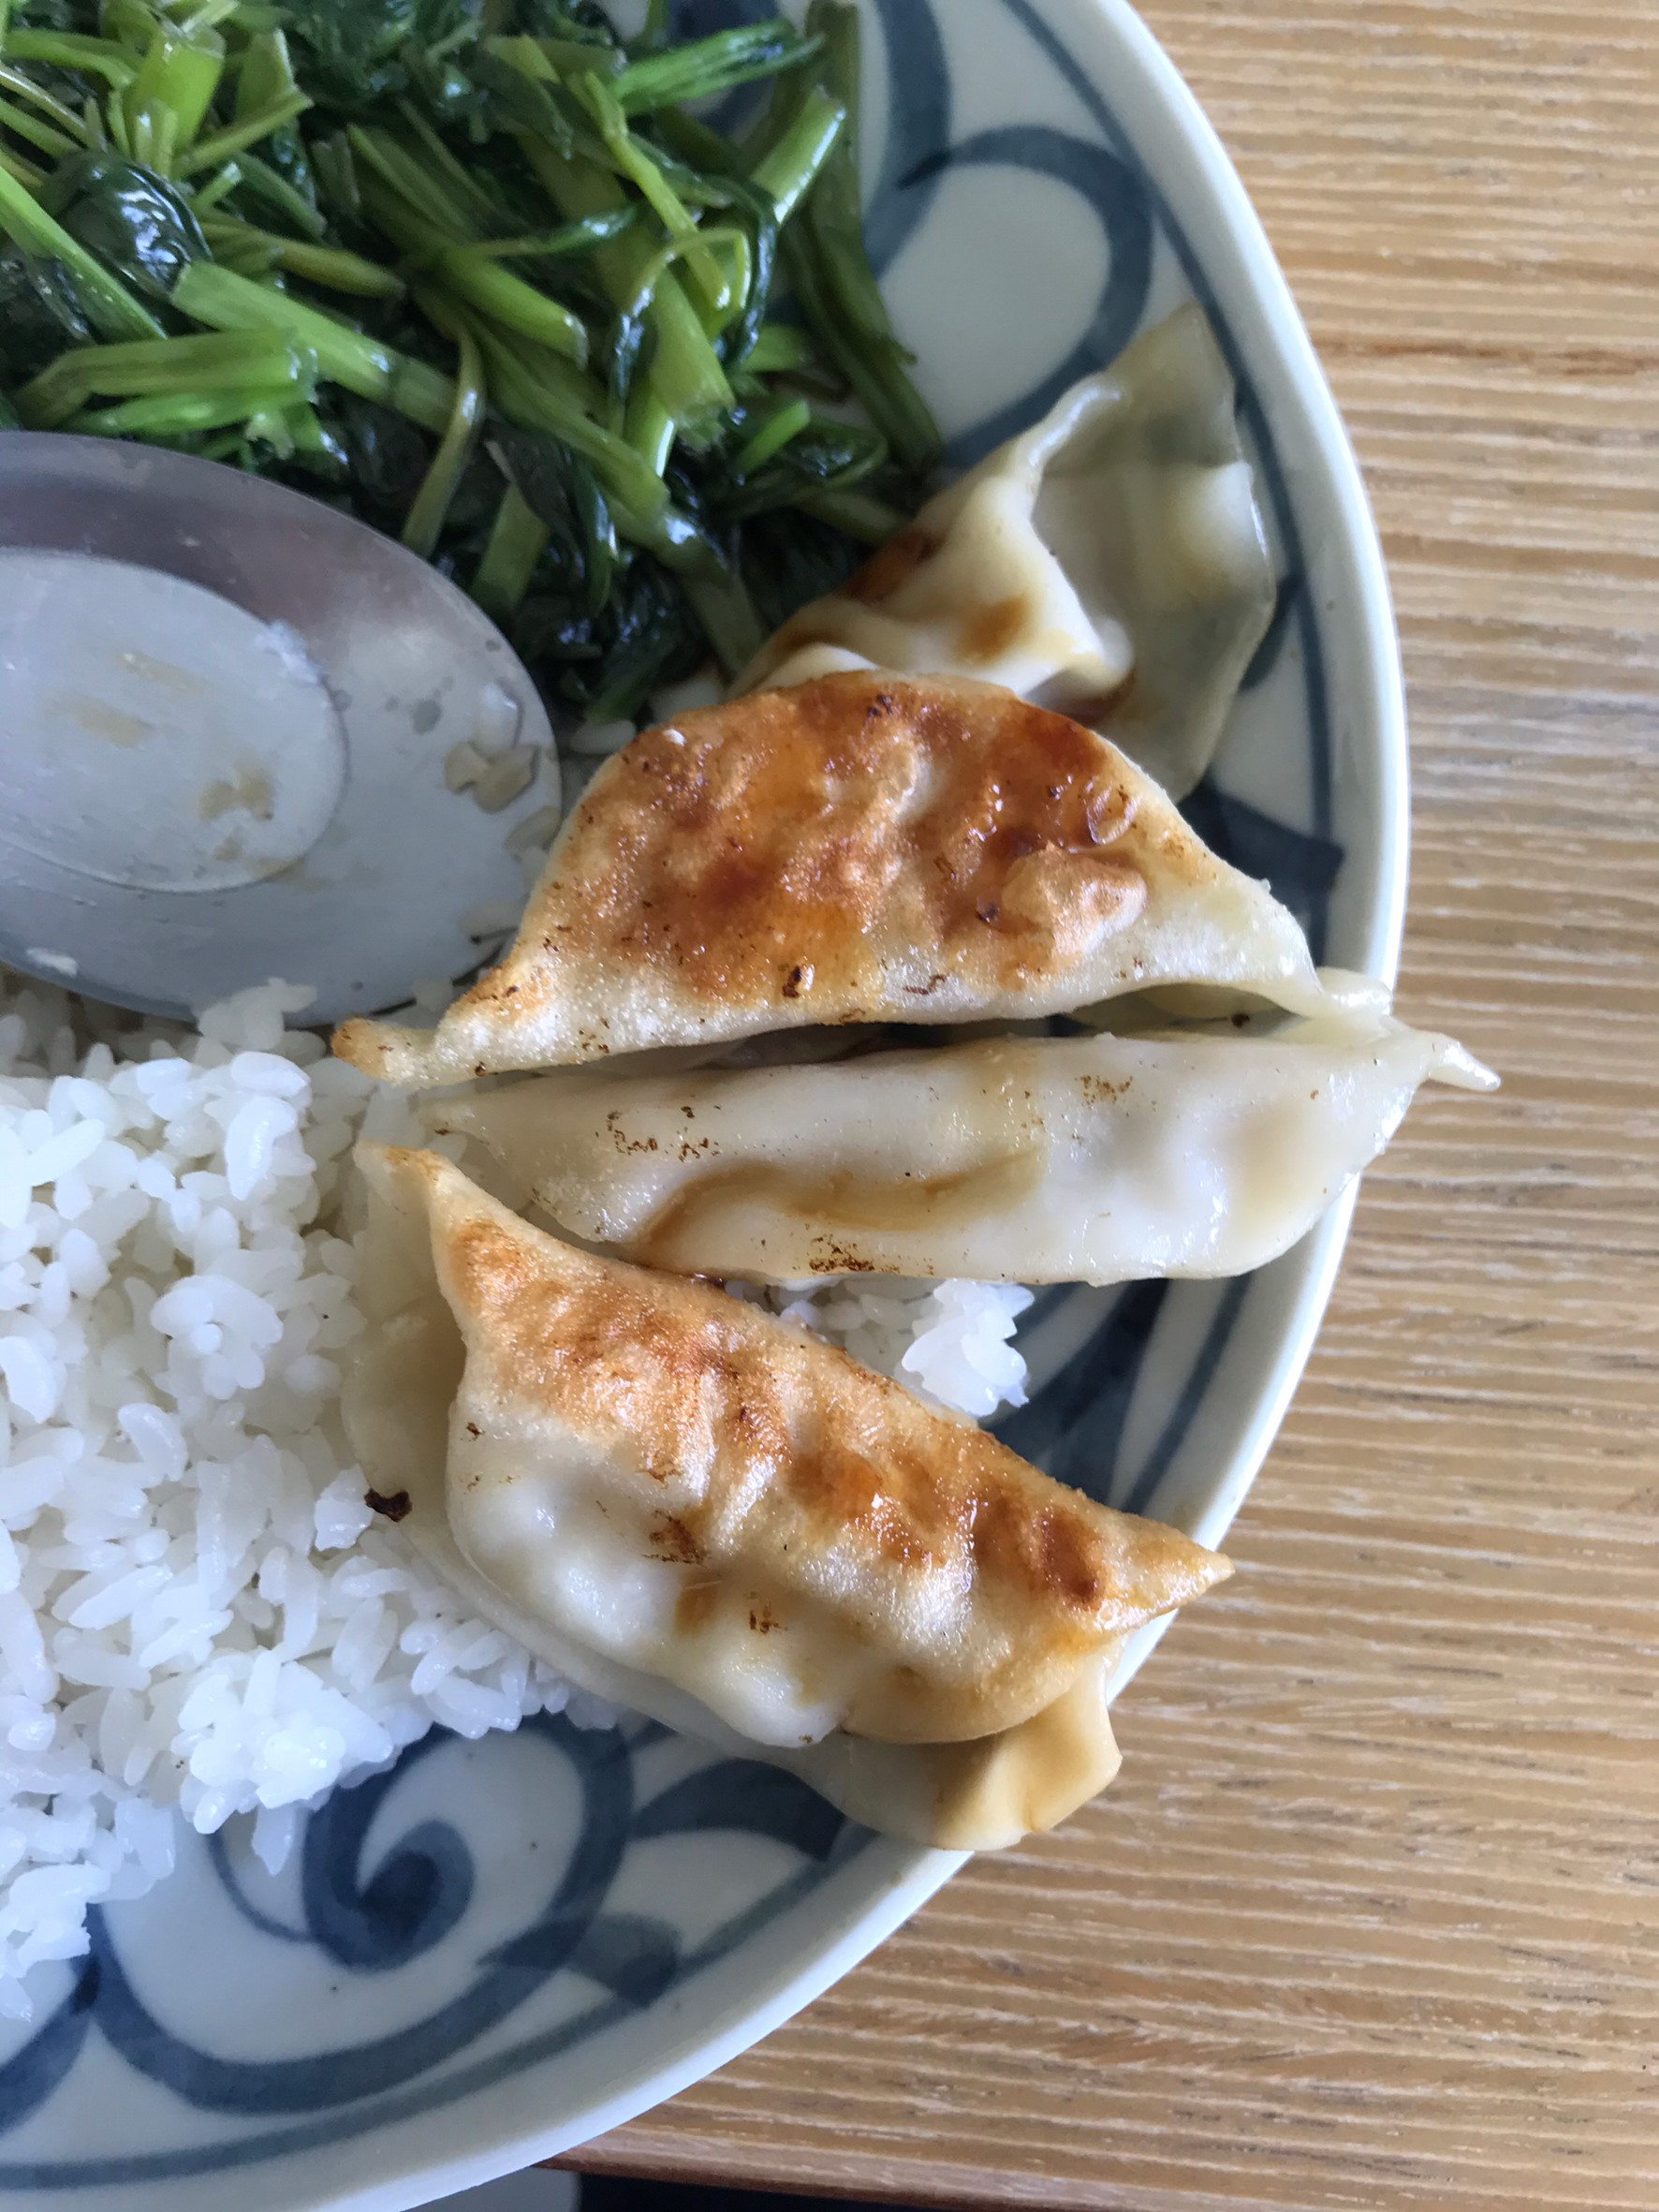fried_dumplings: (389, 357, 1298, 1726)
rice: (9, 983, 376, 1806)
water_spinach: (7, 5, 838, 453)
